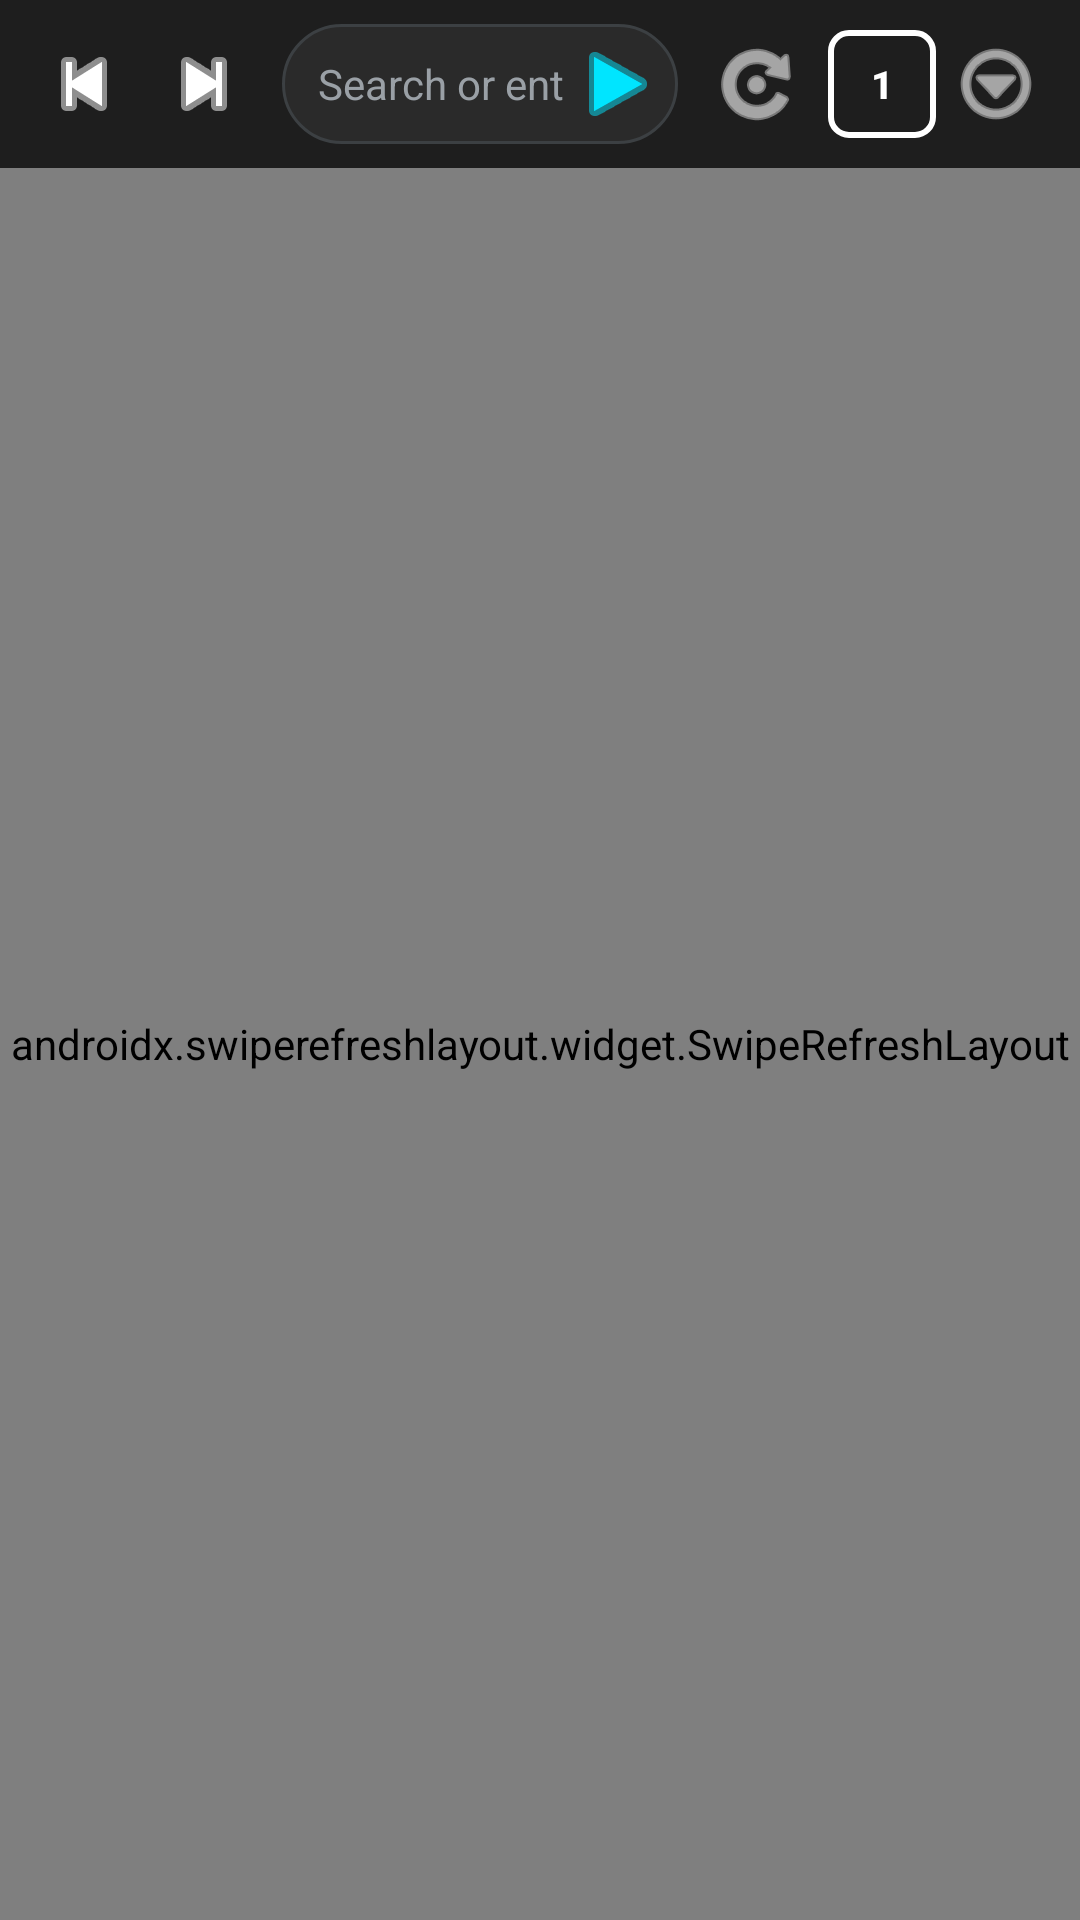

Icon bounding boxes for this 1080 × 1920 phone screenshot, format (x1, y1, x2, y2):
Back: (61, 57, 107, 111)
Forward: (181, 57, 227, 111)
Menu: (960, 48, 1032, 120)
Paste & Play Link: (589, 52, 647, 116)
